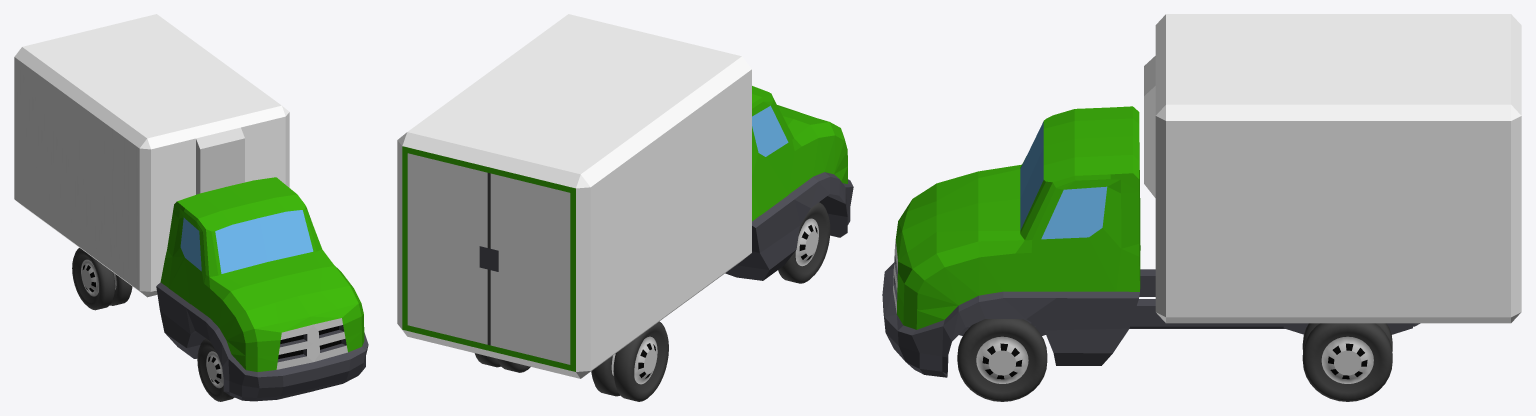
Rendered from truck0.fbx.
The picture shows the model from 3 angles, left to right: view 1: azimuth 30°, elevation 25°; view 2: azimuth 150°, elevation 25°; view 3: azimuth 270°, elevation 25°; orthographic projection. The views are drawn at different scales.
Parts seen in each view (by area): view 1: Cargohold, Cabin, rightDoor, wheel.005, wheel.001, wheel.004; view 2: Cargohold, Cabin, rightDoor, wheel.005, wheel.001, wheel.004; view 3: Cargohold, Cabin, leftDoor, wheel, wheel.002, mainPlatform.
Boxes of the visible parts, bbox=[...] form: Cargohold: bbox=[14, 14, 289, 297]; Cabin: bbox=[156, 177, 368, 401]; rightDoor: bbox=[169, 209, 205, 303]; wheel.005: bbox=[72, 248, 115, 310]; wheel.001: bbox=[197, 338, 234, 401]; wheel.004: bbox=[110, 273, 132, 305]; Cargohold: bbox=[397, 14, 751, 378]; Cabin: bbox=[725, 86, 853, 280]; rightDoor: bbox=[752, 101, 794, 214]; wheel.005: bbox=[613, 321, 668, 401]; wheel.001: bbox=[778, 202, 830, 283]; wheel.004: bbox=[591, 354, 619, 396]; Cargohold: bbox=[1144, 14, 1521, 323]; Cabin: bbox=[882, 106, 1140, 377]; leftDoor: bbox=[1031, 179, 1121, 291]; wheel: bbox=[957, 319, 1047, 401]; wheel.002: bbox=[1302, 323, 1392, 401]; mainPlatform: bbox=[969, 269, 1420, 326].
Size of the model in its own units: 235 by 329 by 629.
